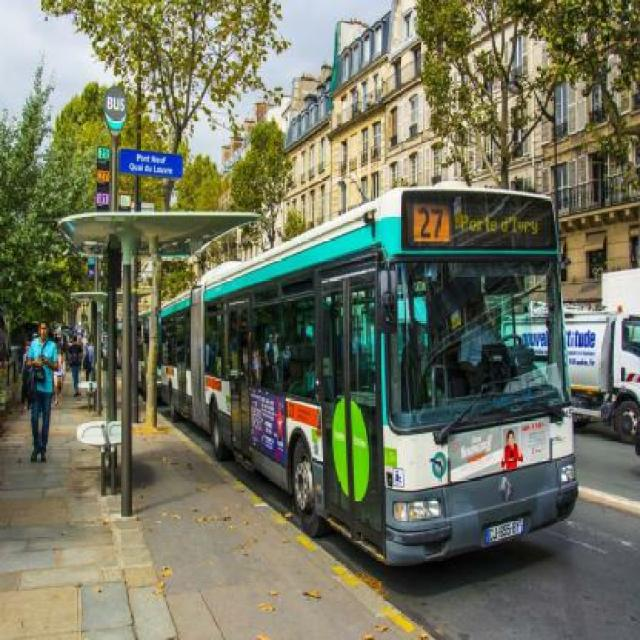bus: (156, 185, 582, 569)
